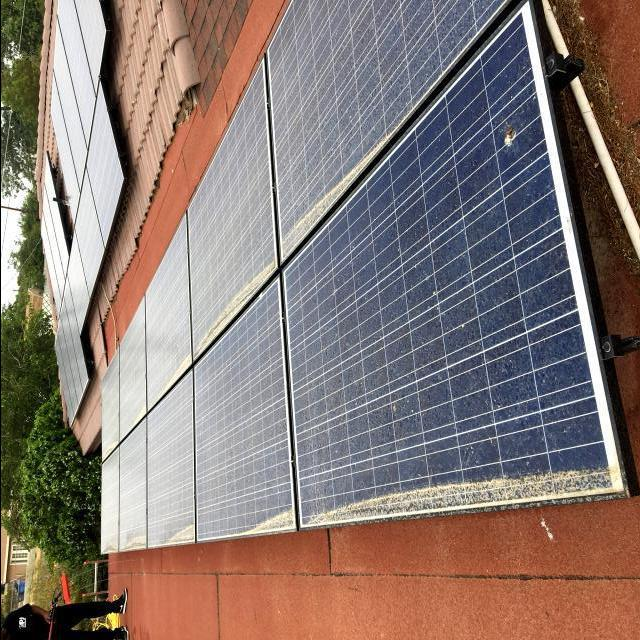soiled: (94, 0, 617, 556)
